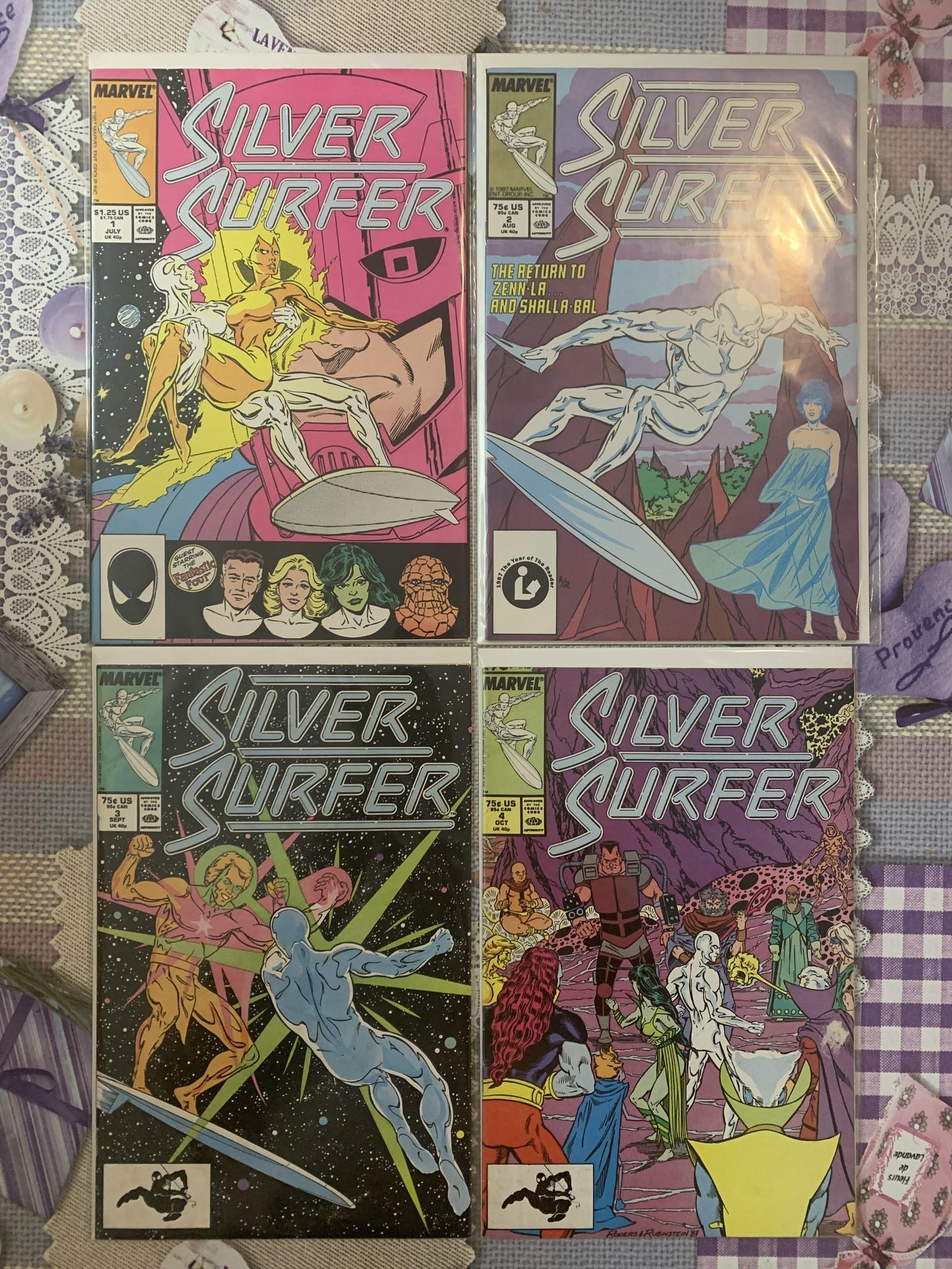comic: (475, 55, 868, 643), (90, 53, 469, 644), (95, 648, 470, 1239), (480, 650, 855, 1238)
